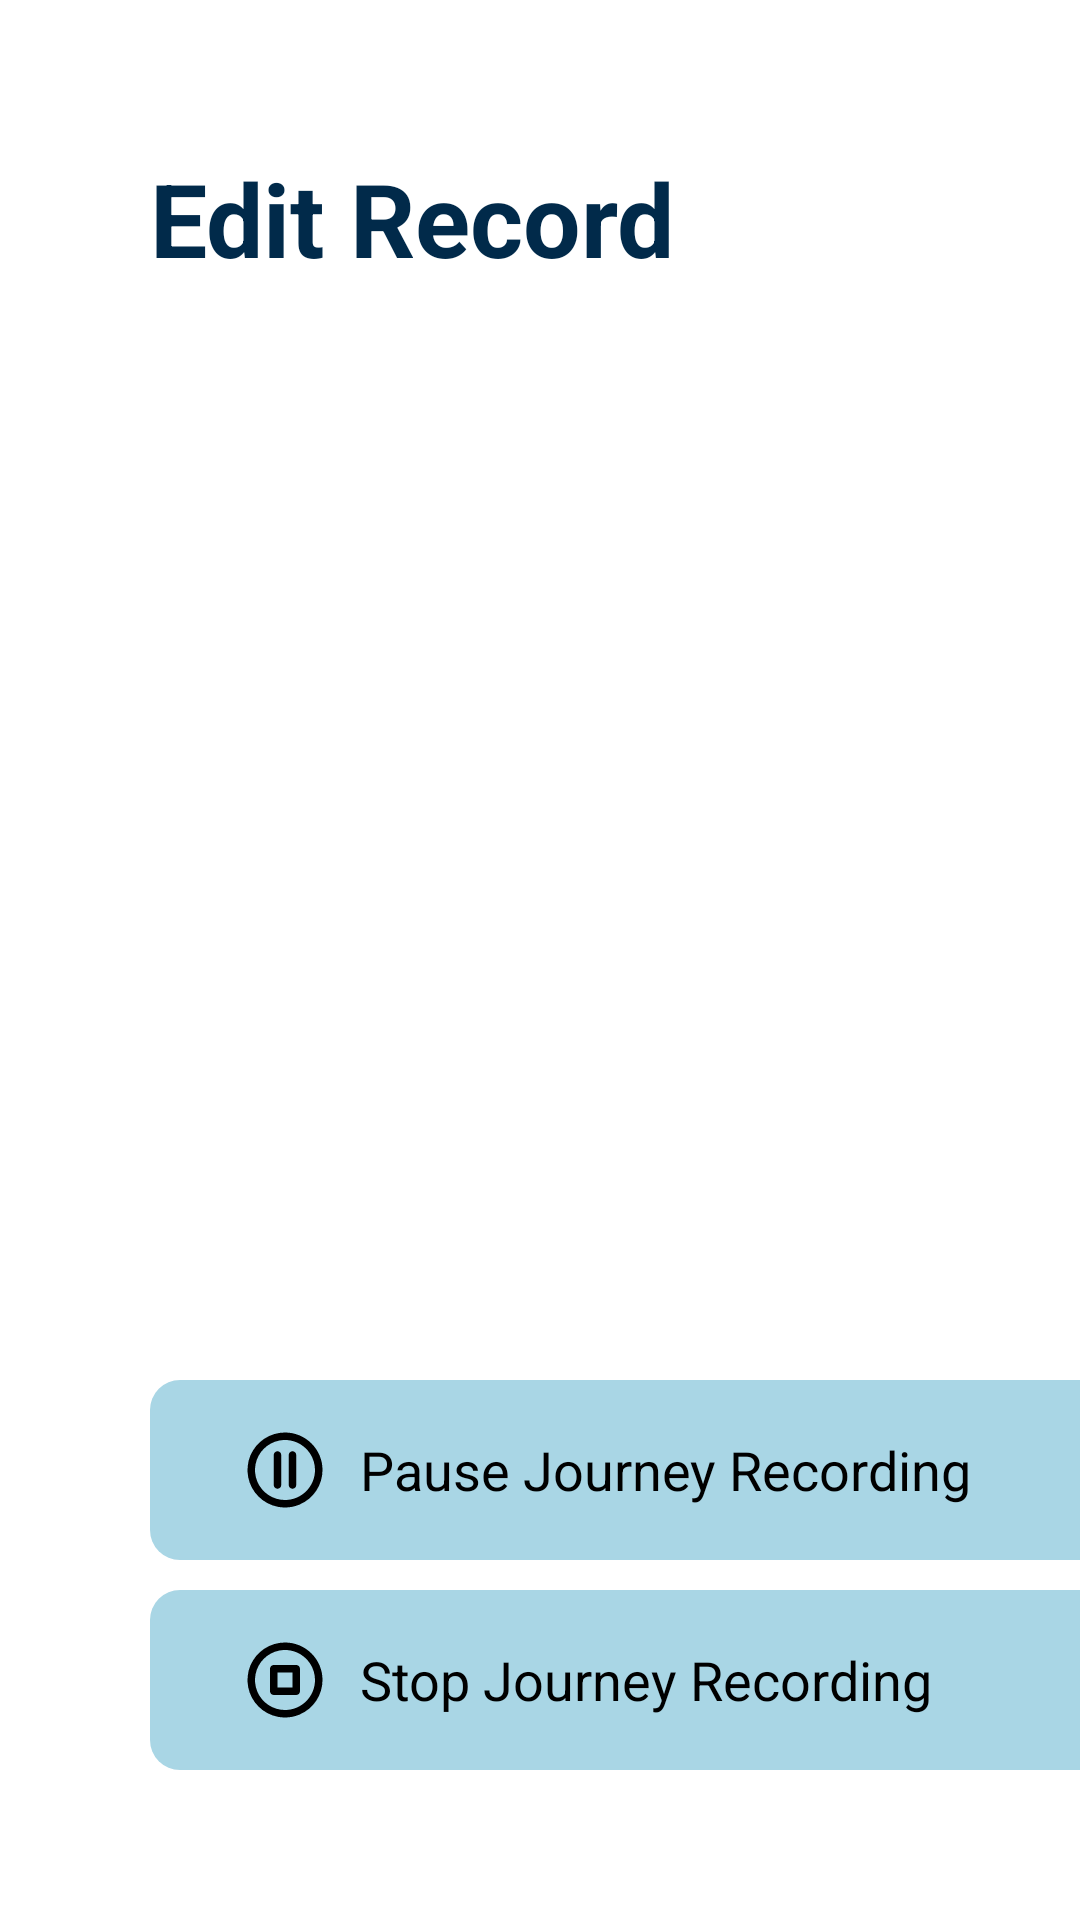

Screen size 1080px×1920px. Icon name, then its center in pixels as (x,y):
post hamburger pause: (285,1470)
post hamburger stop: (285,1680)
